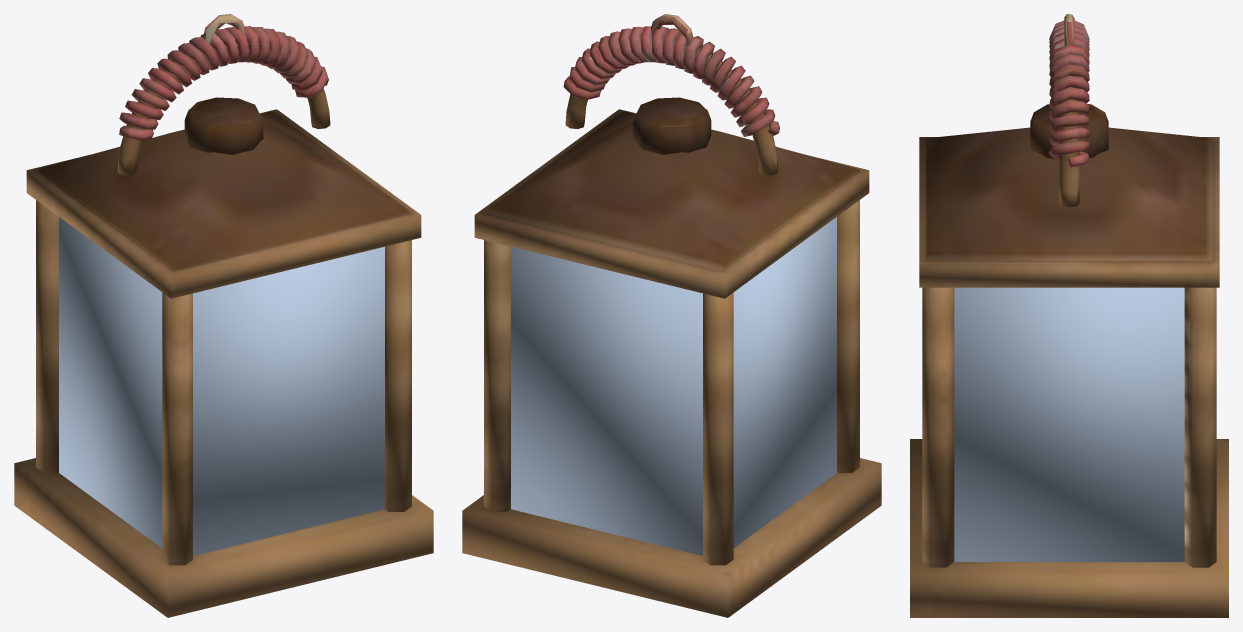
Rendered from lantern_box.glb.
The picture shows the model from 3 angles, left to right: view 1: azimuth 30°, elevation 25°; view 2: azimuth 150°, elevation 25°; view 3: azimuth 270°, elevation 25°; orthographic projection. The views are drawn at different scales.
Visible parts, largest first — view 1: prop_lantern_box_wood, prop_lantern_box_glass, prop_lantern_box_felt; view 2: prop_lantern_box_wood, prop_lantern_box_glass, prop_lantern_box_felt; view 3: prop_lantern_box_wood, prop_lantern_box_glass, prop_lantern_box_felt.
Boxes of the visible parts, bbox=[...] form: prop_lantern_box_wood: bbox=[14, 42, 433, 617]; prop_lantern_box_glass: bbox=[59, 217, 384, 555]; prop_lantern_box_felt: bbox=[119, 14, 328, 140]; prop_lantern_box_wood: bbox=[462, 35, 881, 617]; prop_lantern_box_glass: bbox=[511, 217, 836, 555]; prop_lantern_box_felt: bbox=[563, 14, 779, 136]; prop_lantern_box_wood: bbox=[910, 87, 1228, 617]; prop_lantern_box_glass: bbox=[954, 287, 1184, 561]; prop_lantern_box_felt: bbox=[1048, 14, 1089, 168].
Size of the model in its own units: 0.17 by 0.3144 by 0.17.
Materials: 4 (3 with a texture image).
